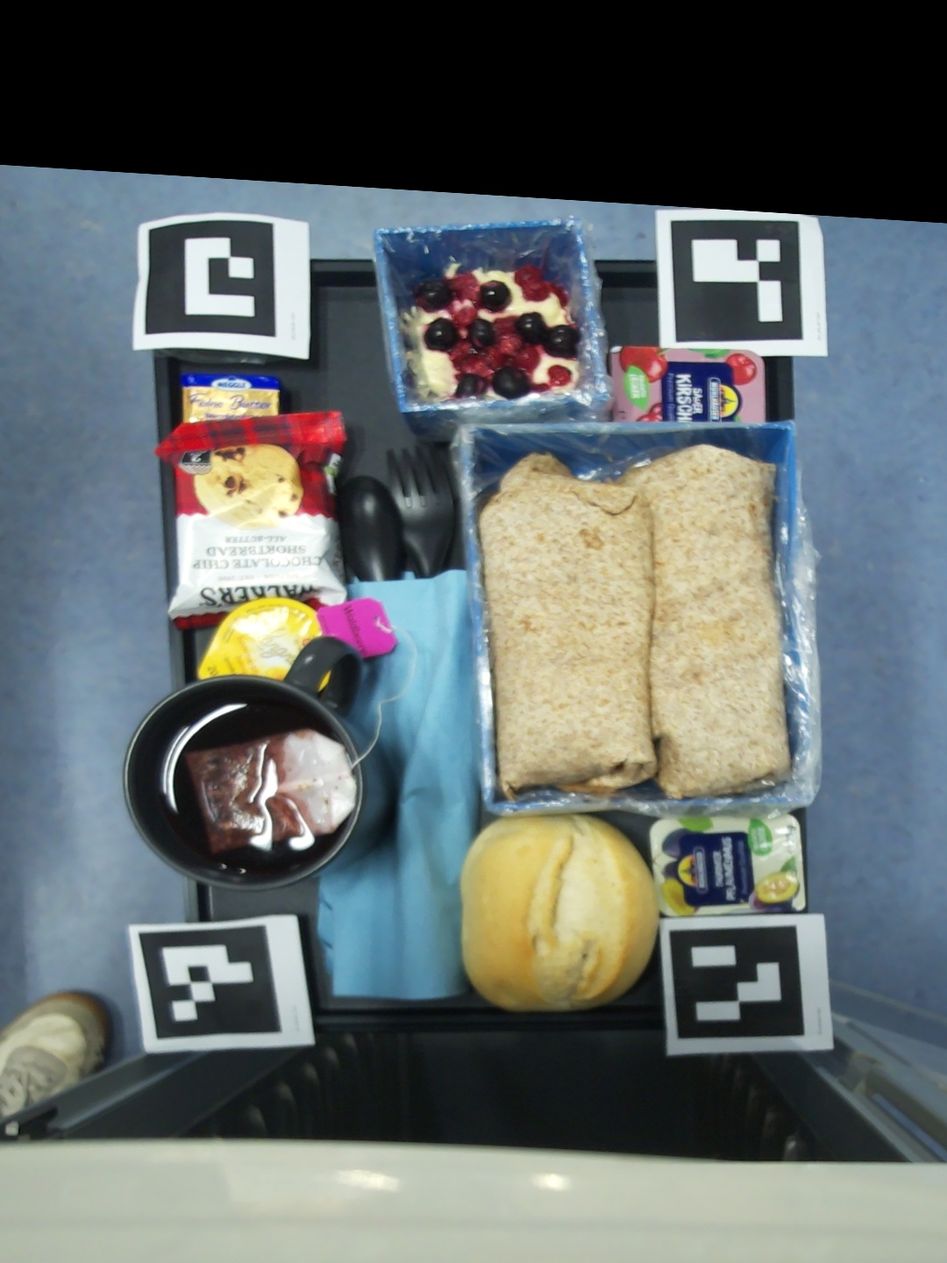bread_roll: (460, 814, 657, 1011)
butter: (182, 375, 280, 423)
cherry_jam: (609, 345, 765, 423)
cookie: (154, 411, 348, 631)
honey: (199, 598, 321, 680)
plum_jam: (648, 814, 805, 917)
tea_cup: (123, 637, 393, 891)
vanilla_pudding_with_fruits: (409, 262, 582, 398)
wrap_half_1: (478, 453, 655, 799)
wrap_half_2: (613, 444, 788, 802)
